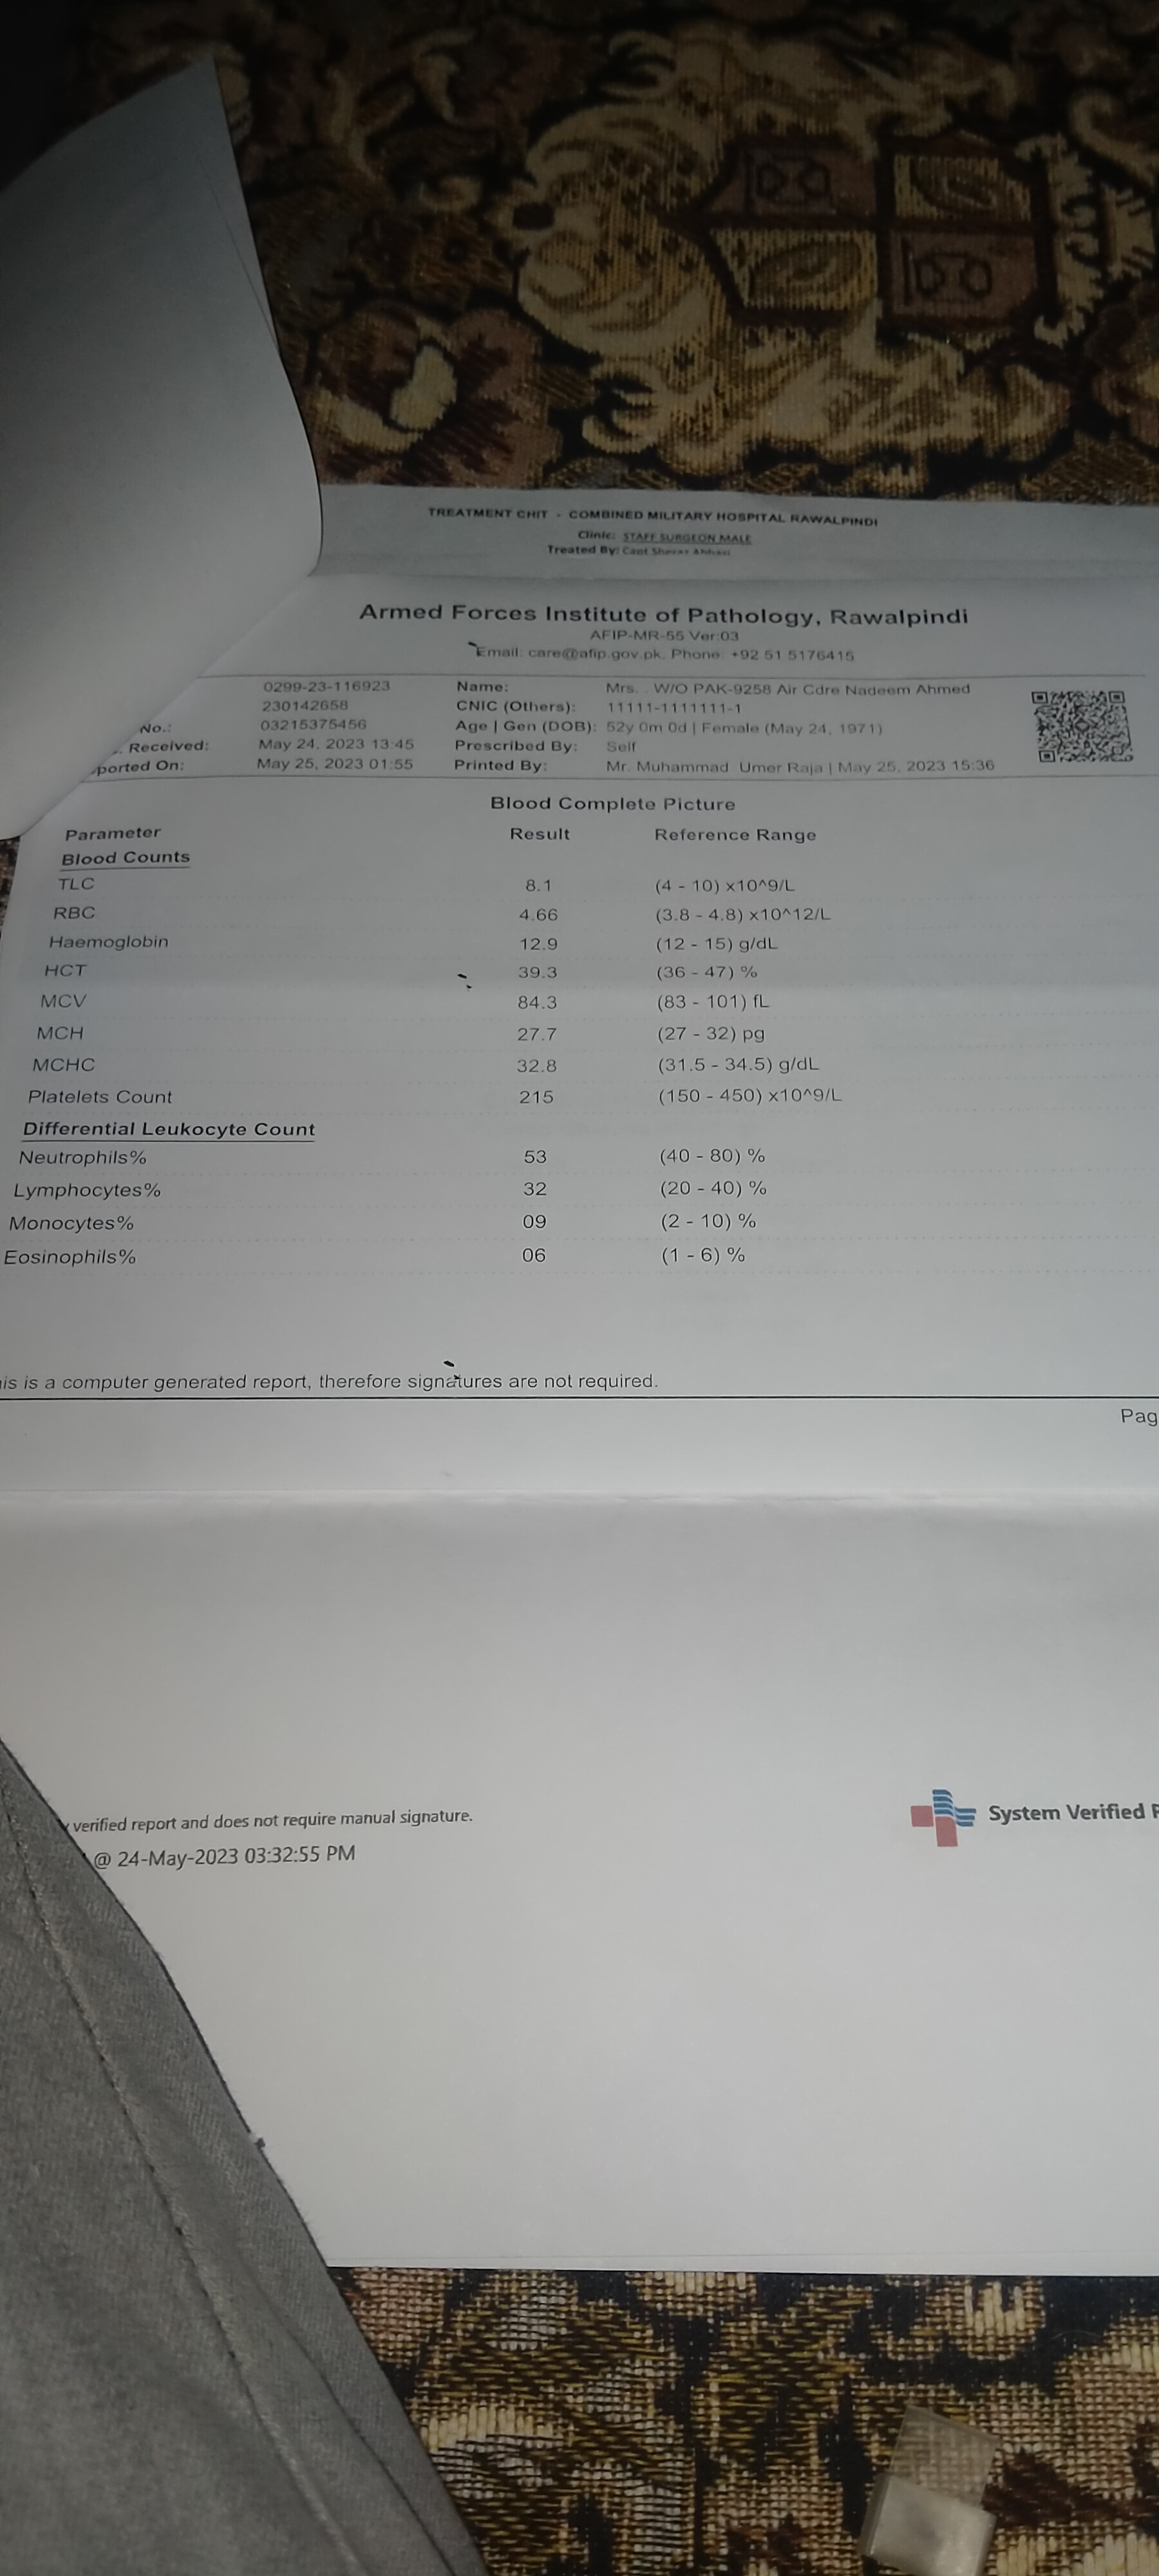report: (10, 790, 1075, 1341)
